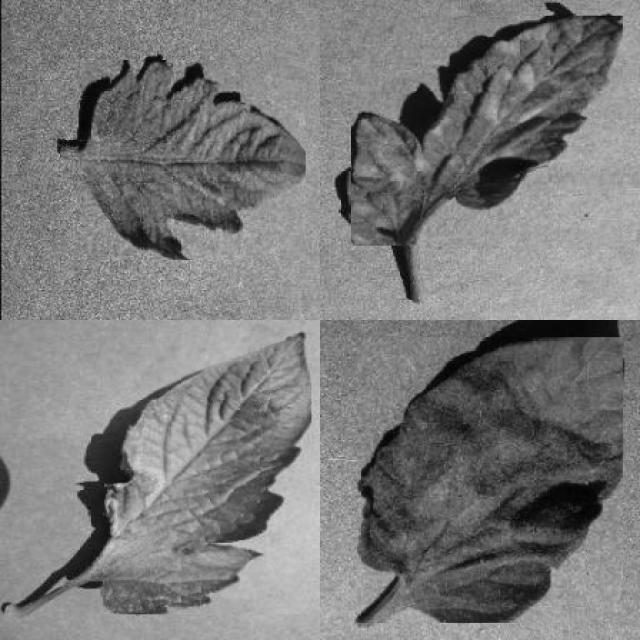Late Blight: (357, 337, 623, 623), (102, 332, 312, 614)
Leaf Mold: (350, 16, 623, 246)
Mosaic Virus: (77, 60, 306, 260)
